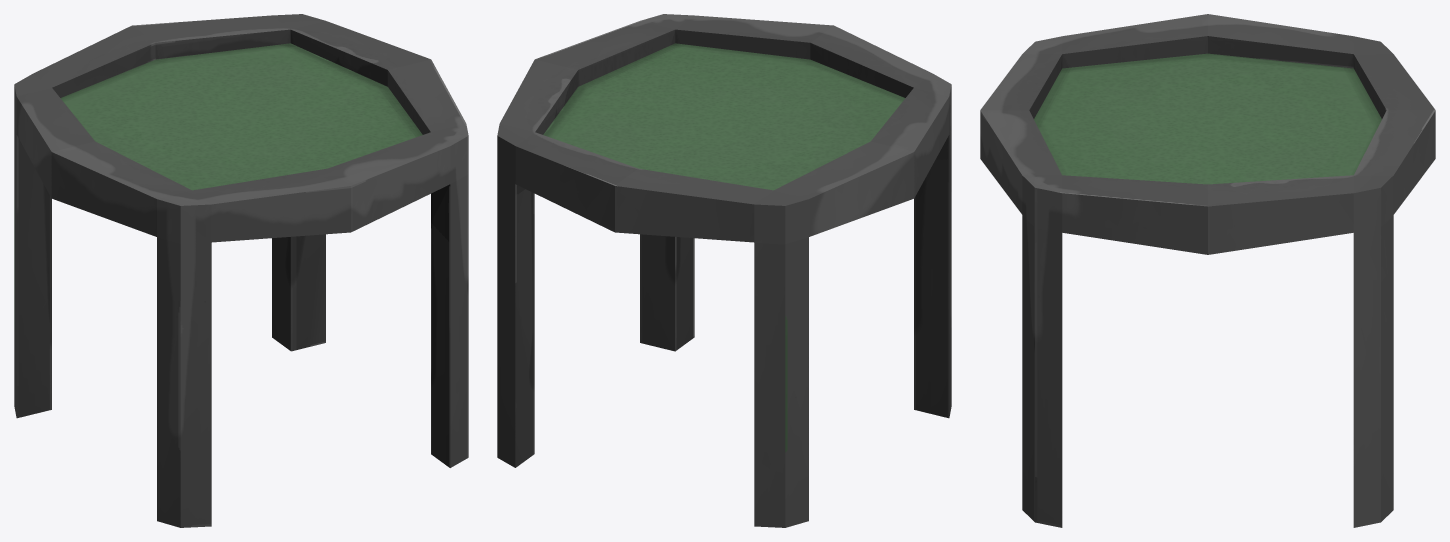
The model's file is trampoline.glb.
3 renders of one model, left to right at view 1: azimuth 30°, elevation 25°; view 2: azimuth 150°, elevation 25°; view 3: azimuth 270°, elevation 25°, orthographic. The views are drawn at different scales.
Visible parts, largest first — view 1: Cube.001; view 2: Cube.001; view 3: Cube.001.
Boxes of the visible parts, x1,y1,x2,y2 form: Cube.001: [14, 14, 468, 527]; Cube.001: [497, 14, 951, 527]; Cube.001: [980, 14, 1435, 527].
Size of the model in its own units: 1.23 by 1.01 by 1.23.
Materials: 1 (1 with a texture image).
